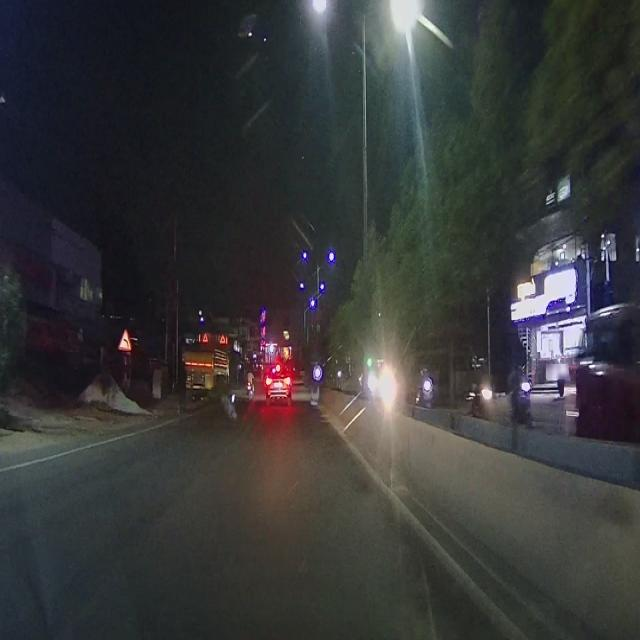left-hand-curve: (119, 328, 130, 351)
